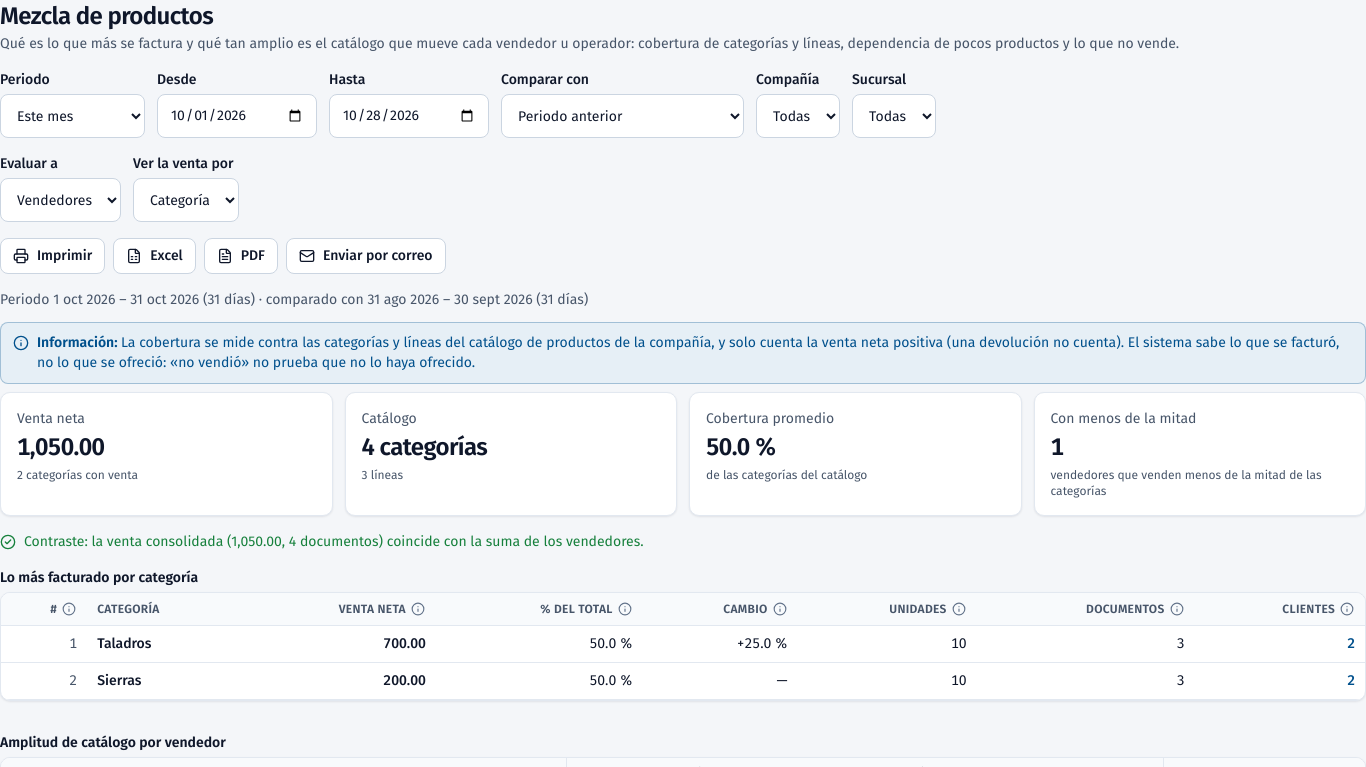
Scenario: mezcla de productos › abre en una ventana los clientes detrás de la cifra «Clientes»
What coordinates should you click on to do the following:
click the button named "Ver los 2 clientes de Taladros"
I would click on:
 (1351, 644)
Its box is left=1347, top=634, right=1355, bottom=654.
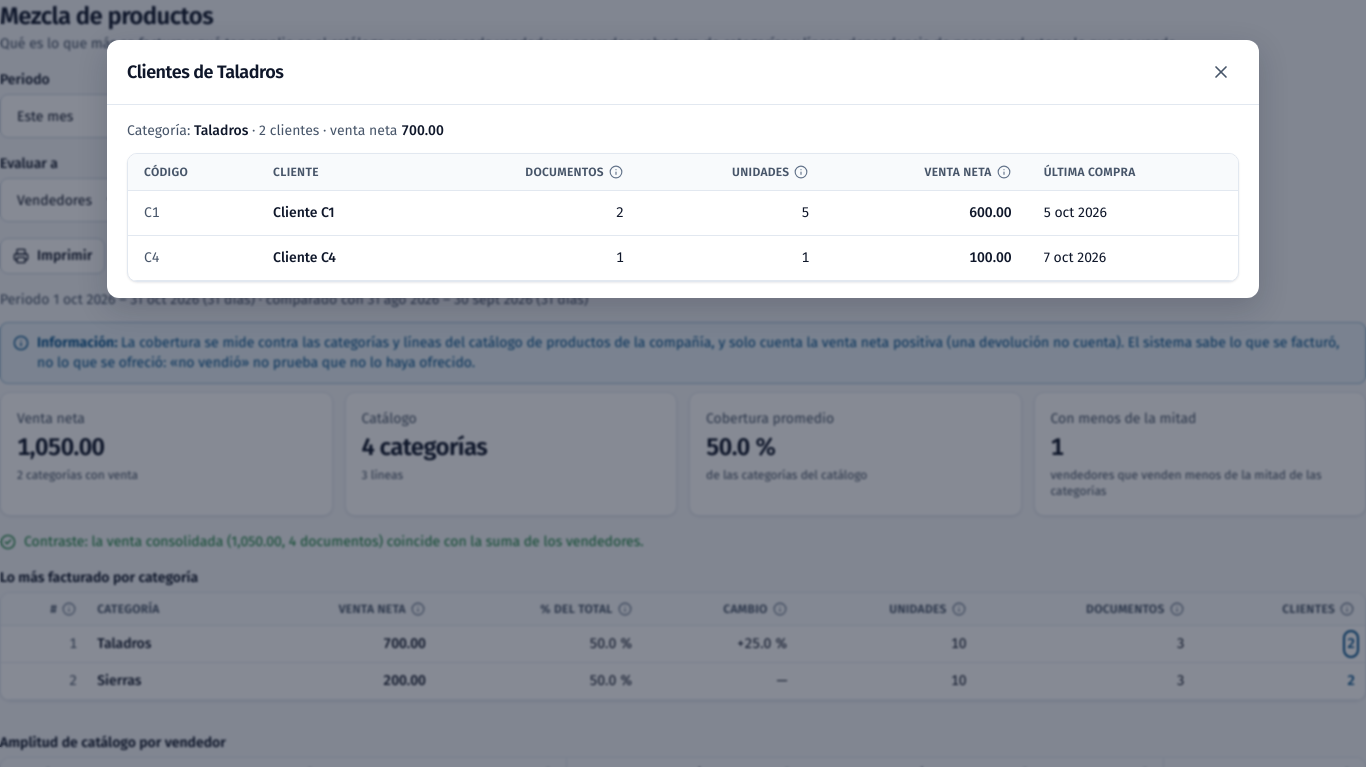
Check: the text "Cliente C4" is shown, box left=257, top=236, right=418, bottom=280
Check: the text "600.00" is shown, box left=825, top=190, right=1028, bottom=236
What coordinates should you click on to do the following:
click the button named "Cerrar"
I would click on:
 (1221, 72)
Its box is left=1203, top=54, right=1239, bottom=90.
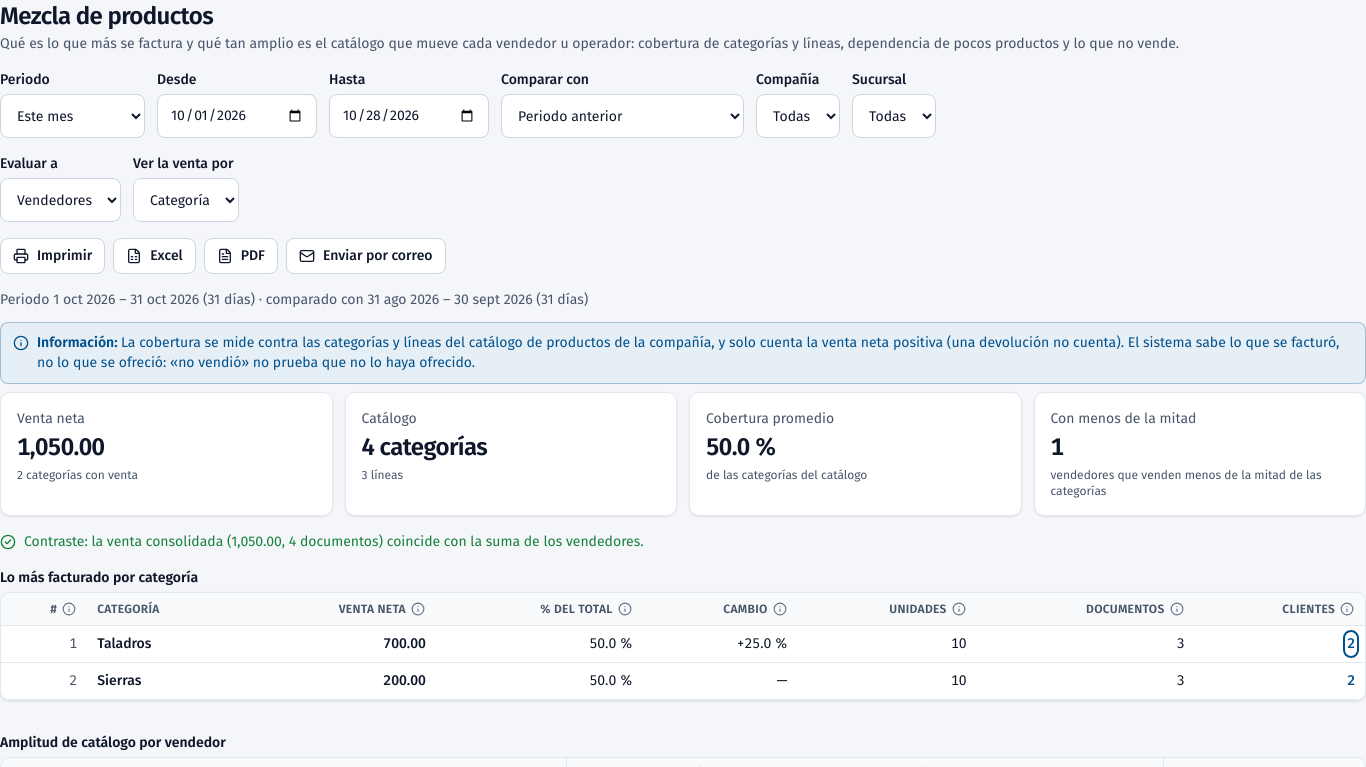
Check: the heading "Clientes de Taladros" is gone
